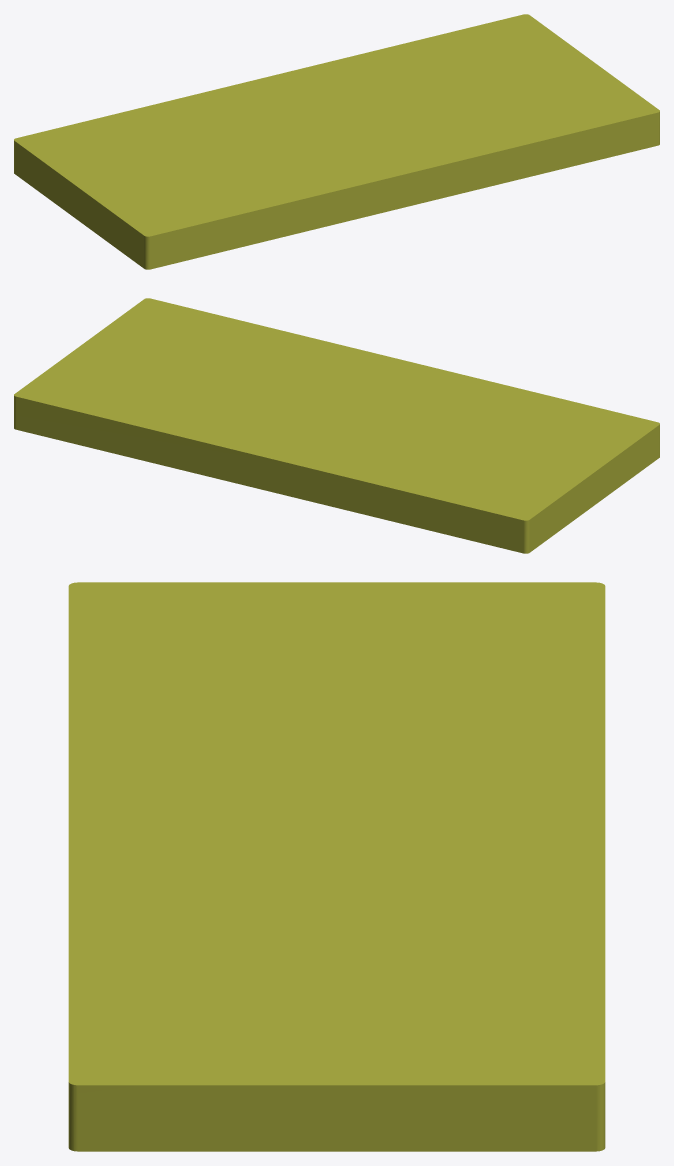
3 views of the same model, one above another, from view 1: azimuth 30°, elevation 25°; view 2: azimuth 150°, elevation 25°; view 3: azimuth 270°, elevation 25° (orthographic). The views are drawn at different scales.
Visible parts, largest first — view 1: sheet; view 2: sheet; view 3: sheet.
Part boxes in pixels (<box>): sheet: <box>14,14,659,269</box>; sheet: <box>14,298,659,553</box>; sheet: <box>68,582,605,1151</box>.
Bounding box in the file's own units: 1.97 × 0.1212 × 0.89.
